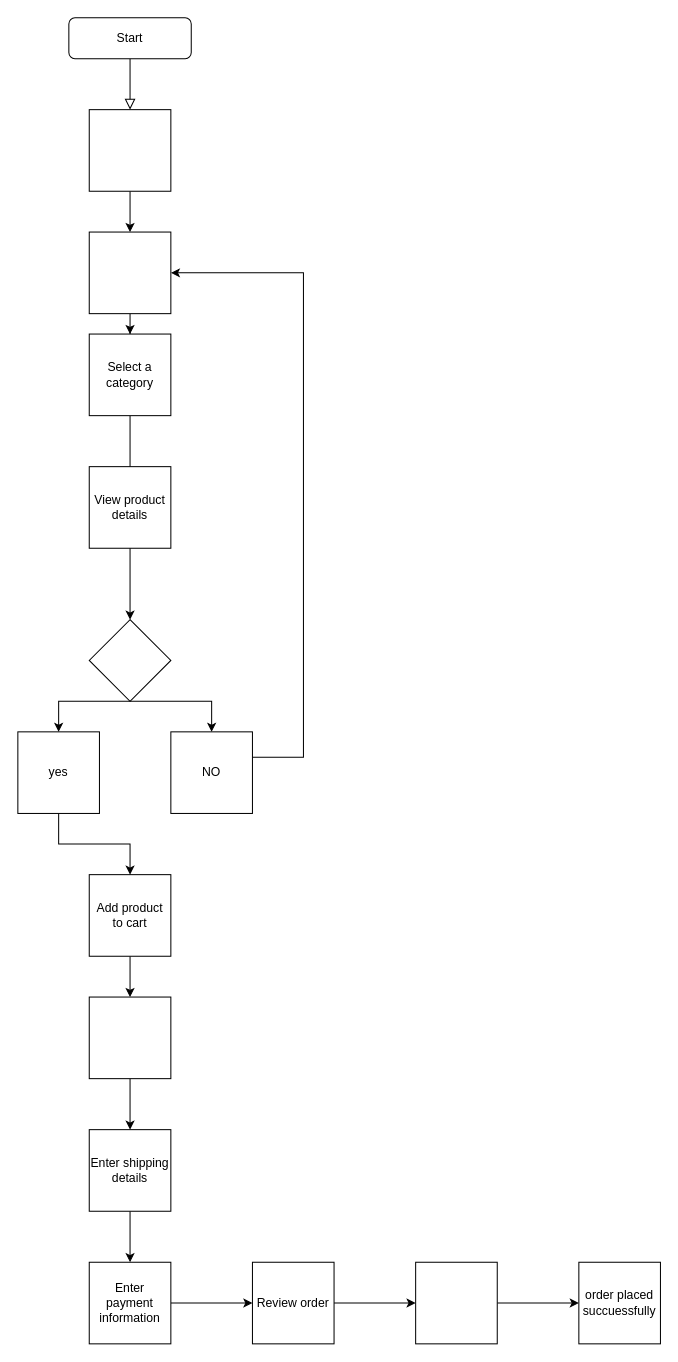
This 678x1362 diagram has some shape labels left out. The centre of each missing label's shape, as x and y in pixels:
"Browse Categories" goes at [129,272].
"Confirm purchase" goes at [456,1302].
"Decide to purchase" goes at [129,660].
"Proceed to checkout" goes at [129,1037].
"User visits the JPet store" goes at [129,150].
